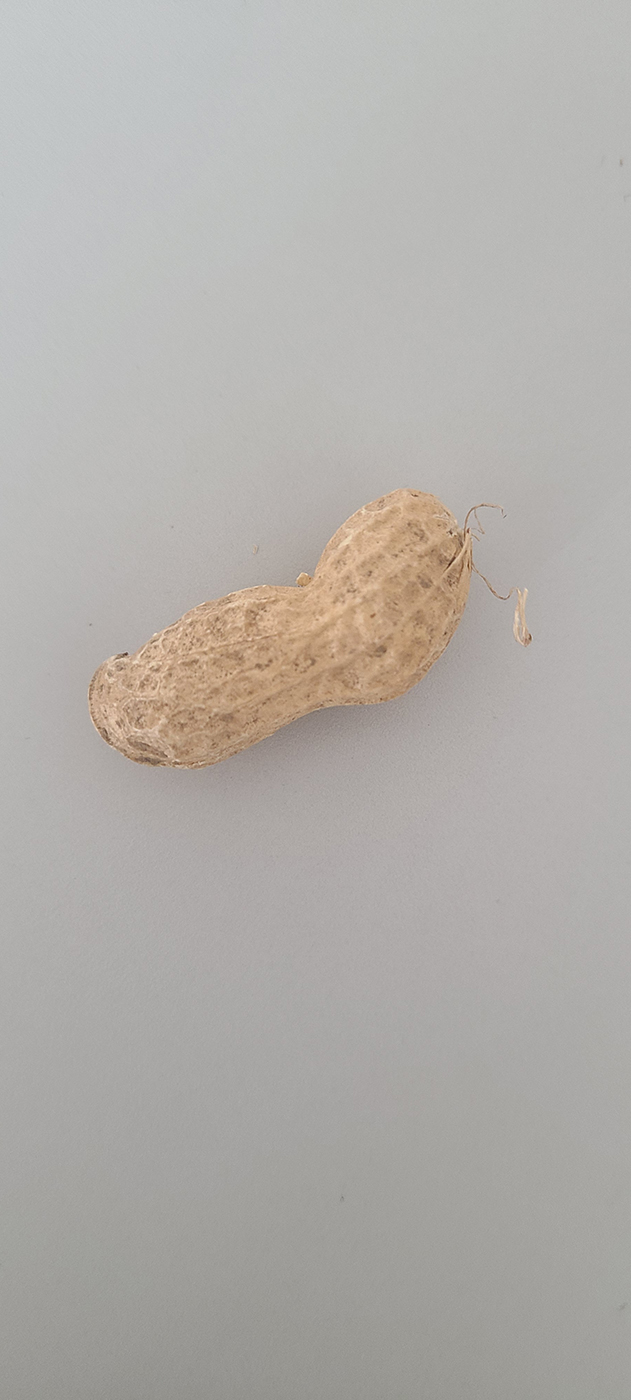h: (83, 485, 475, 767)
